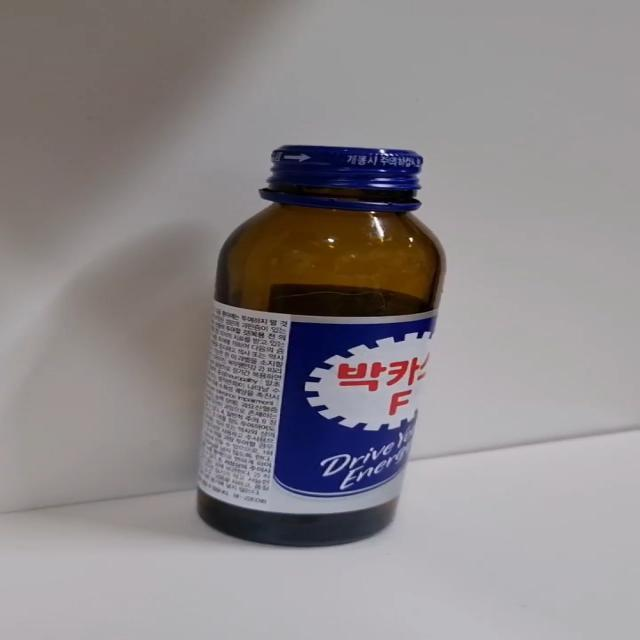Glass: (194, 144, 447, 550)
